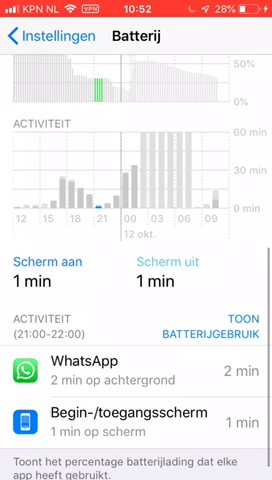activity: (4, 309, 99, 343)
app: (8, 350, 263, 389), (9, 401, 264, 440)
